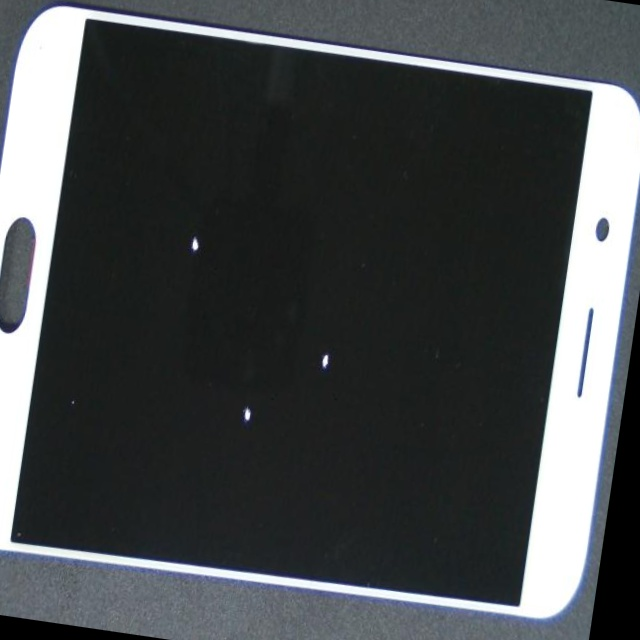stain: (45, 119, 420, 640), (129, 107, 539, 543), (43, 90, 312, 445)
